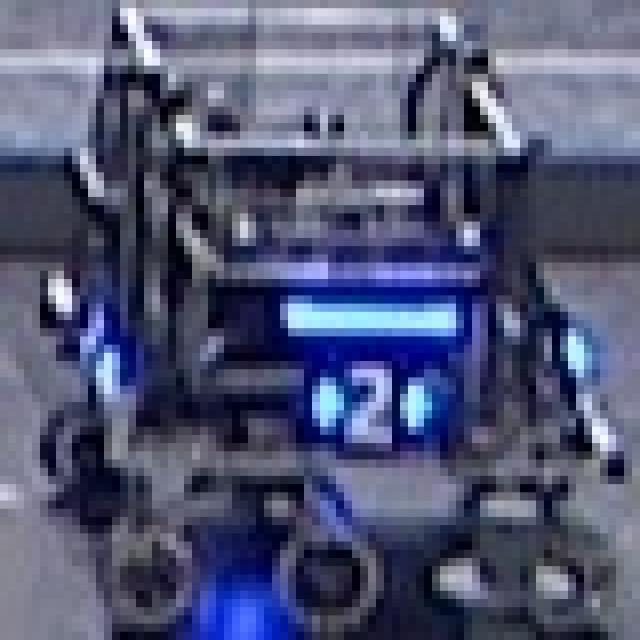B2: (284, 353, 444, 443)
